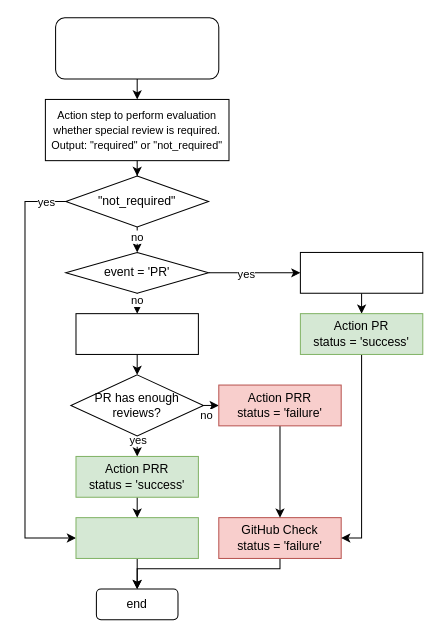
Some shapes in this 441 by 638 pixel diagram are drawn without their labels. The shapes that lost their labels are listed below. From the top down, each one's centre as x and y in pixels, then its label:
(137,48): Event: PULL_REQUEST or PULL_REQUEST_REVIEW
(361,272): Add reviewers
(136,333): check reviews
(136,537): GitHub Check status = 'success'
